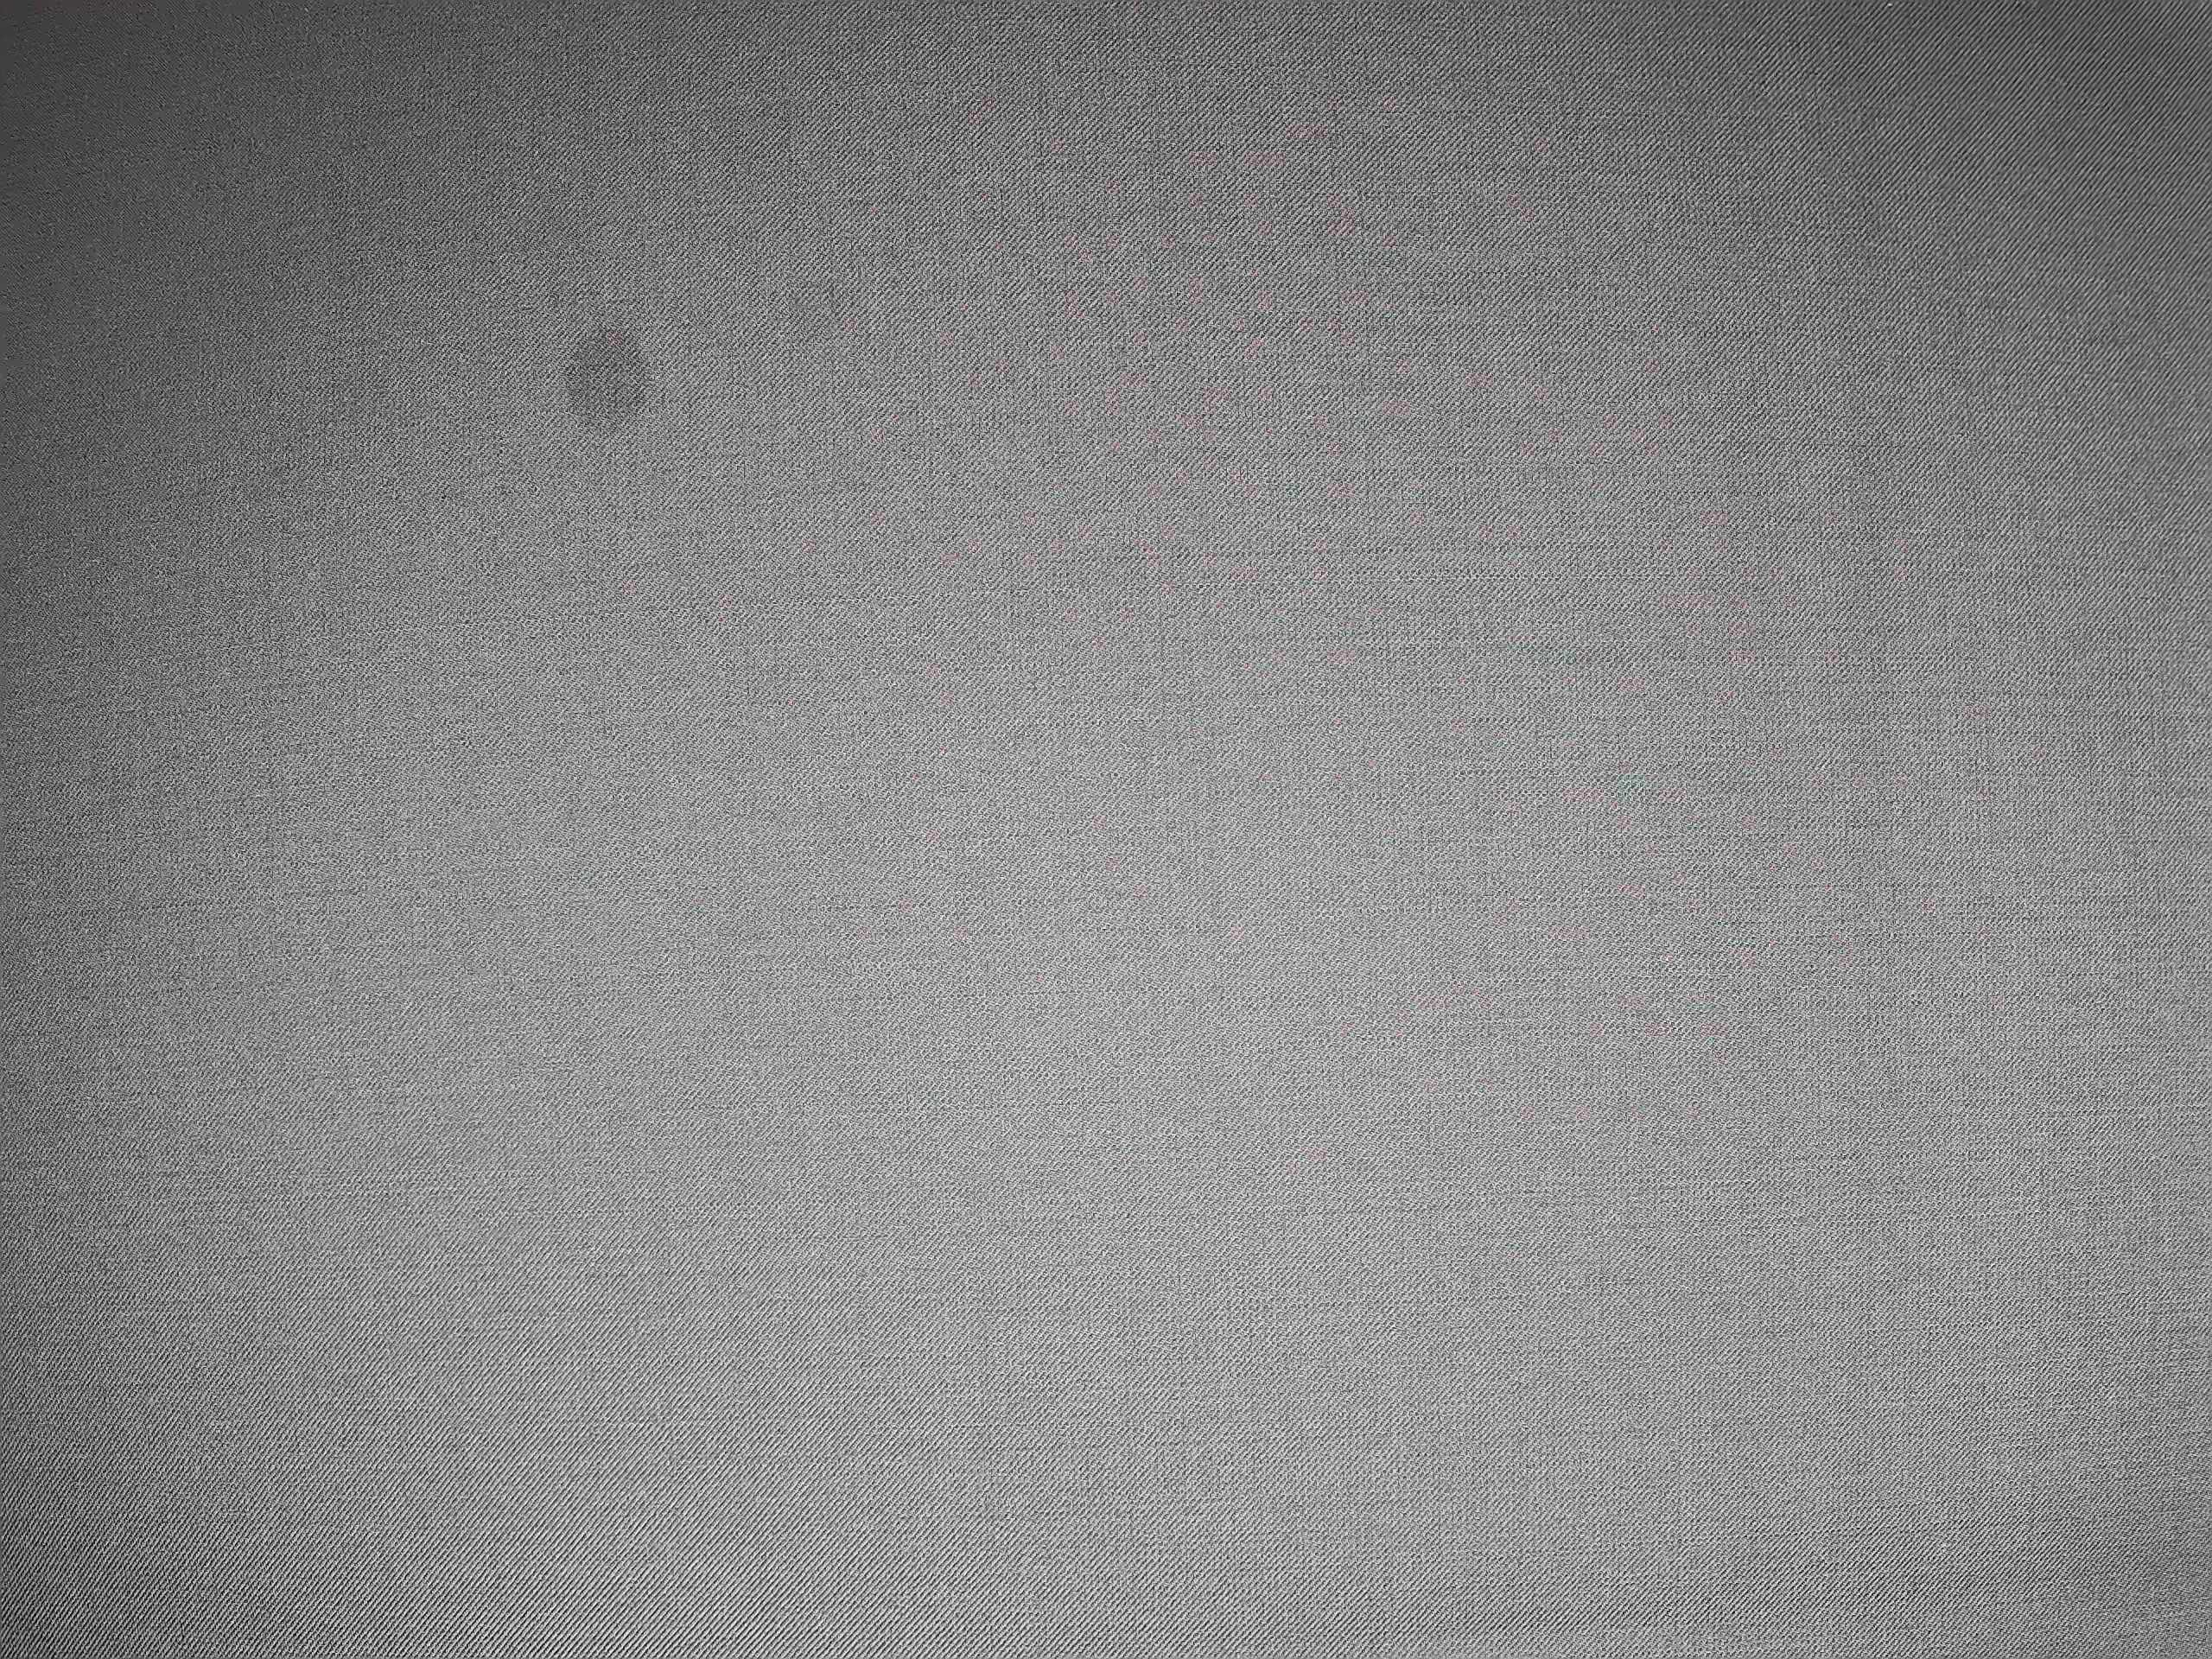stains: (542, 292, 675, 458)
